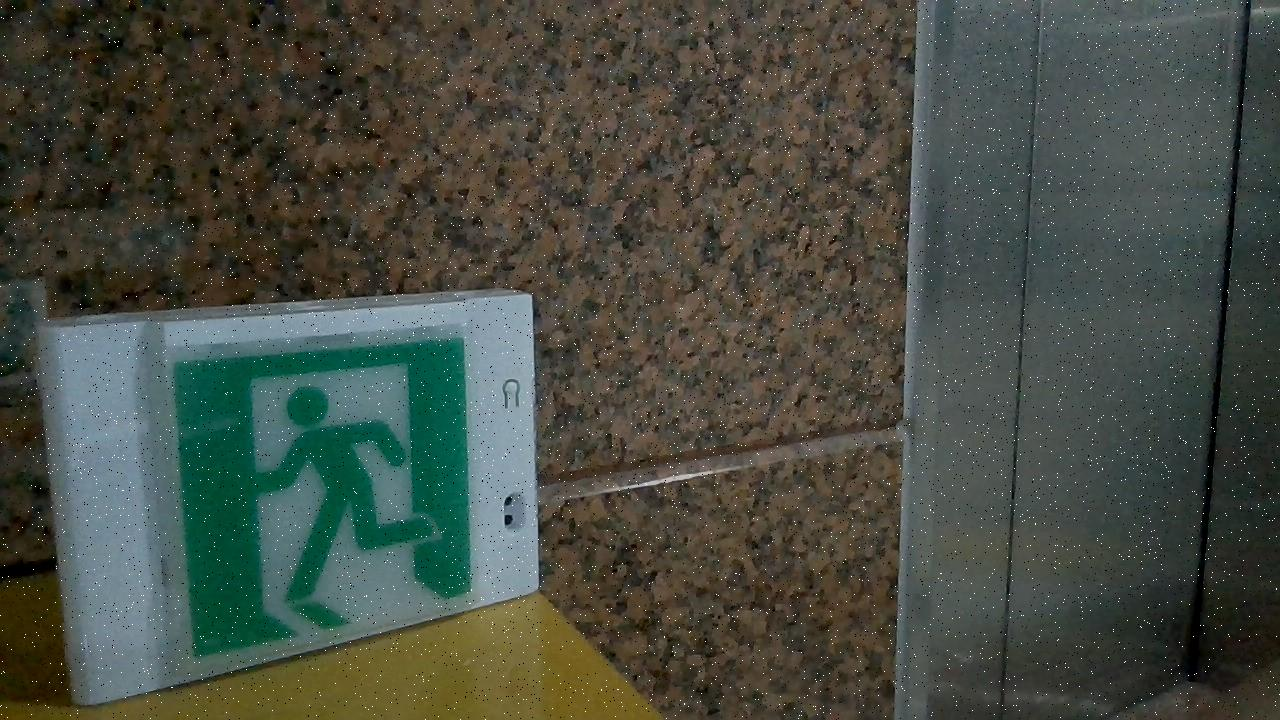emergency_exit: (36, 287, 542, 706)
